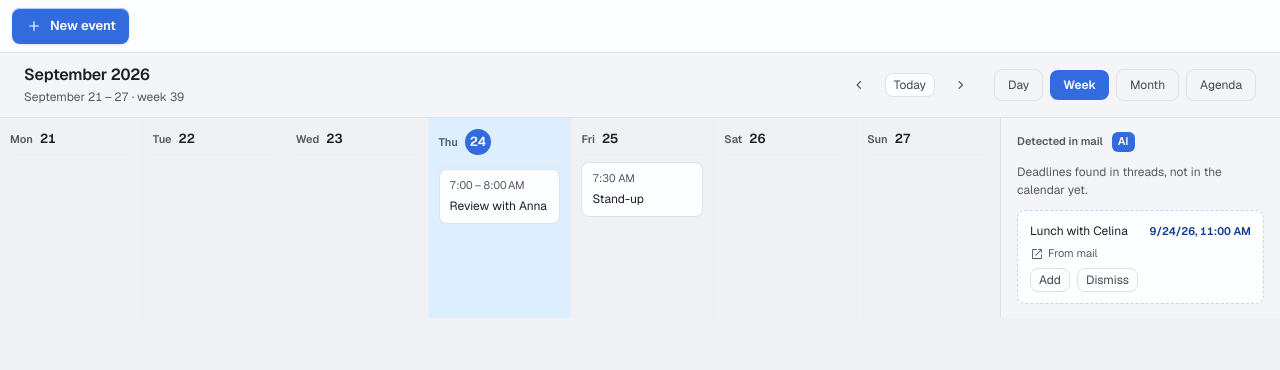
CalendarSpace › puts a proposal back where the write did not happen, rather than leaving it answered
The width and height of the screenshot is (1280, 370).
Expected: the text "Lunch with Celina" is shown, [1030,222,1140,240]
Click the button "Add" at (1050, 280), box [1030,268,1070,292]
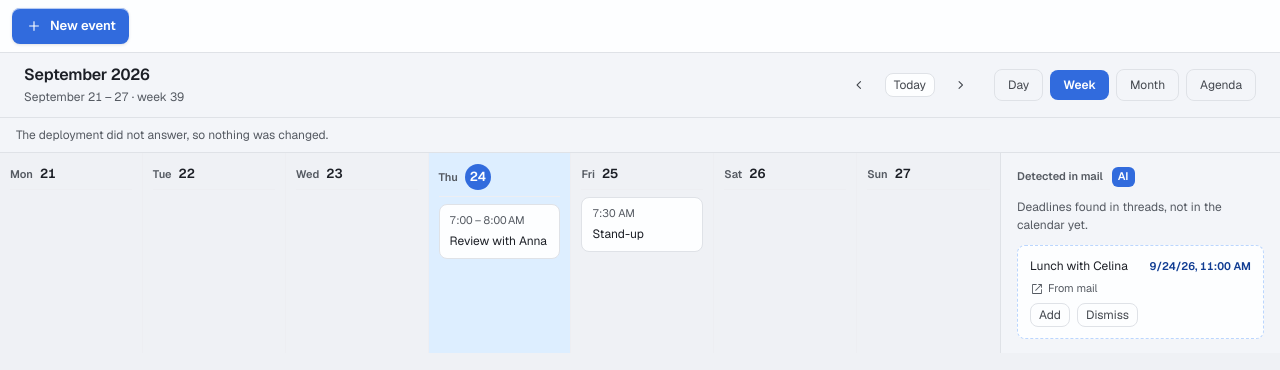
Expected: the text "Lunch with Celina" is shown, [1030,257,1140,275]
Now the text "The deployment did not answer, so nothing was changed." is shown, box [0,118,1279,153]
